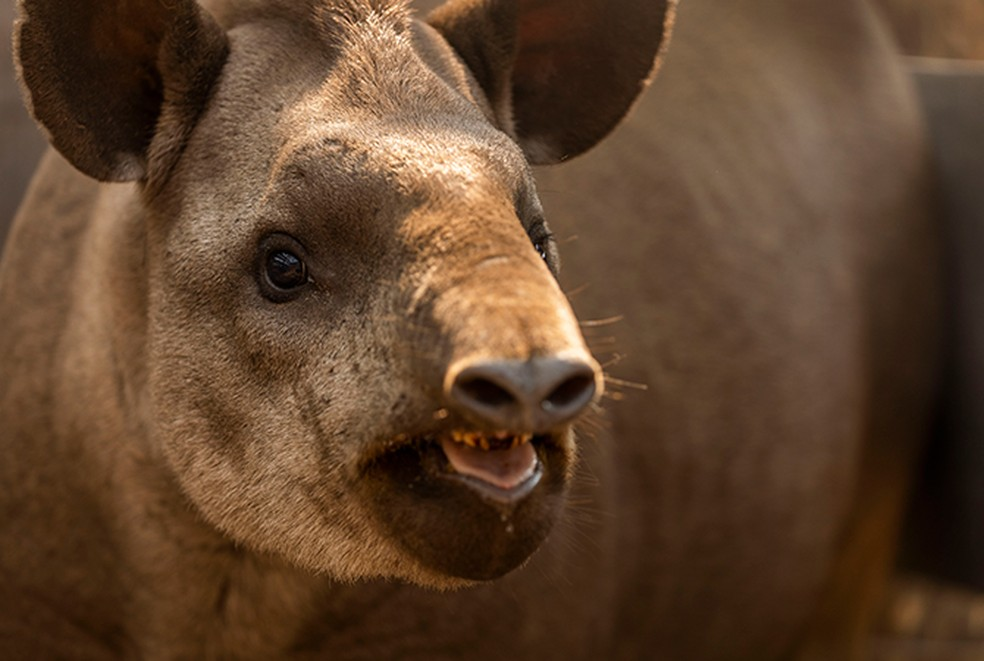Anta: (12, 5, 934, 630)
